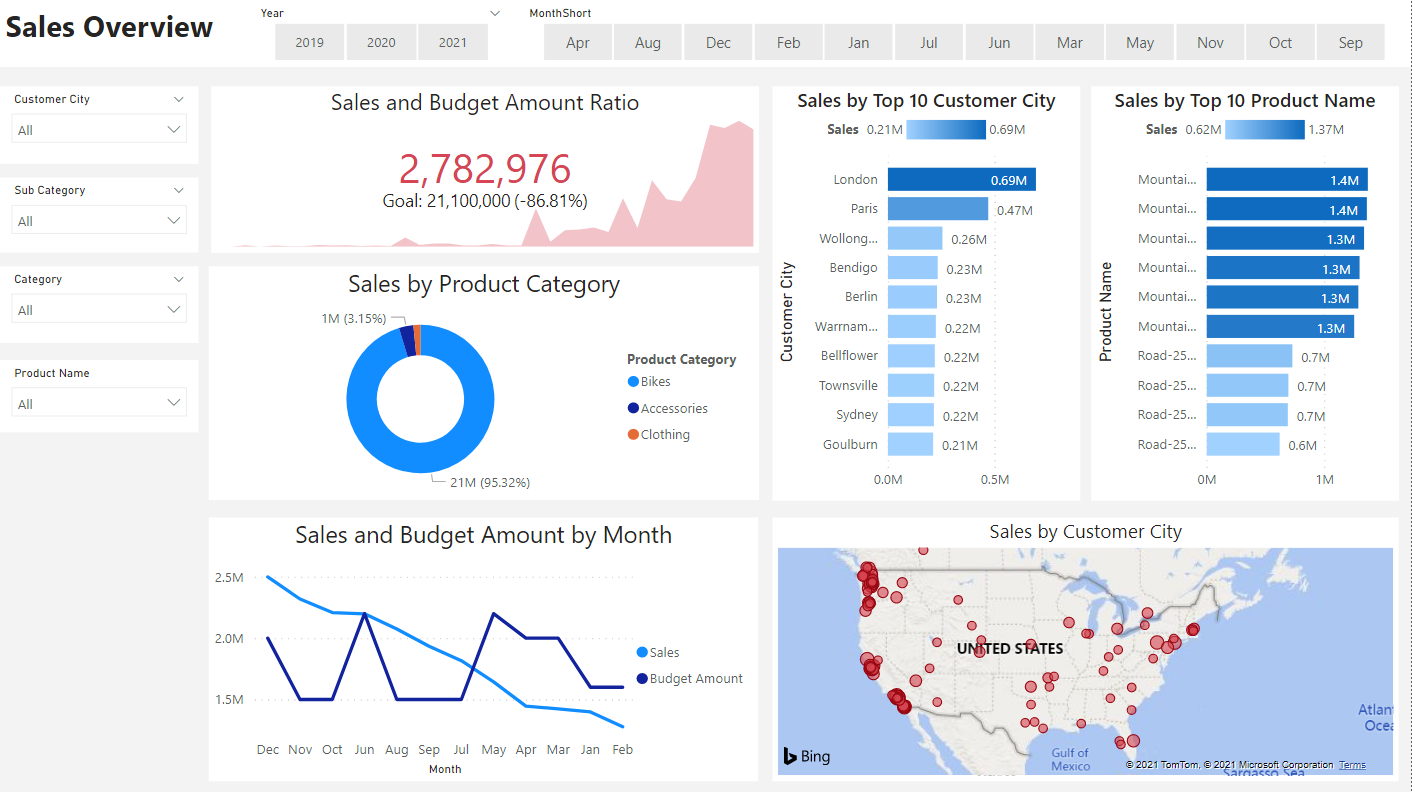

The page's visual inventory and layout, read from the dashboard file:
{"tool":"powerbi","page":{"name":"Sales Overview","canvas":[1280,720],"ordinal":0},"visuals":[{"type":"textbox","box":[0,0,1280,61.1],"z":0},{"type":"slicer","fields":{"Values":["DIM_Customer.Customer City"]},"box":[0,77.8,179.6,70.6],"z":1000},{"type":"slicer","fields":{"Values":["DIM_Products.Sub Category"]},"box":[0,160.4,179.6,68.3],"z":2000},{"type":"slicer","fields":{"Values":["DIM_Products.Product Category"]},"box":[0,241.9,179.6,69.4],"z":3000},{"type":"slicer","fields":{"Values":["DIM_Products.Product Name"]},"box":[0,326.9,179.6,65.9],"z":4000},{"type":"slicer","fields":{"Values":["Dim_Date_Excel.Year"]},"box":[223.9,0,243.1,61.1],"z":5000},{"type":"slicer","fields":{"Values":["Dim_Date_Excel.MonthShort"]},"box":[467,0,813,61.1],"z":6000},{"type":"kpi","title":"Sales and Budget Amount Ratio","fields":{"Indicator":["Key Measures.Sales"],"Goal":["Key Measures.Budget_Amount"],"TrendLine":["FactInternetSale.SalesAmount"]},"box":[191.6,77.8,496.9,150.9],"z":7000},{"type":"donutChart","fields":{"Category":["DIM_Products.Product Category"],"Y":["Key Measures.Sales"]},"box":[189.2,241.9,499.3,211.9],"z":8000},{"type":"lineChart","fields":{"Y":["Key Measures.Sales","Key Measures.Budget_Amount"],"Category":["Dim_Date_Excel.MonthShort"]},"box":[189.5,468.9,498.5,239.2],"z":9000},{"type":"barChart","title":"Sales by Top 10 Customer City","fields":{"Y":["Key Measures.Sales"],"Category":["DIM_Customer.Customer City"]},"box":[700.5,77.8,279,376],"z":10000},{"type":"barChart","title":"Sales by Top 10 Product Name","fields":{"Y":["Key Measures.Sales"],"Category":["DIM_Products.Product Name"]},"box":[990.2,77.8,279,376],"z":11000},{"type":"map","fields":{"Category":["DIM_Customer.Customer City"],"Size":["Key Measures.Sales"]},"box":[701,468.9,568.4,239.2],"z":12000}]}

Visuals, with their boxes in screenshot pixels (x1, y1, x2, y2), scaled from the page's 1280x720 canvas onto the 1412x792 screenshot:
textbox: rect(0, 0, 1411, 67)
slicer - DIM_Customer.Customer City: rect(0, 86, 198, 163)
slicer - DIM_Products.Sub Category: rect(0, 176, 198, 252)
slicer - DIM_Products.Product Category: rect(0, 266, 198, 342)
slicer - DIM_Products.Product Name: rect(0, 360, 198, 432)
slicer - Dim_Date_Excel.Year: rect(247, 0, 515, 67)
slicer - Dim_Date_Excel.MonthShort: rect(515, 0, 1411, 67)
"Sales and Budget Amount Ratio" kpi: rect(211, 86, 760, 252)
donutChart - DIM_Products.Product Category x Key Measures.Sales: rect(209, 266, 760, 499)
lineChart - Key Measures.Sales x Key Measures.Budget_Amount: rect(209, 516, 759, 779)
"Sales by Top 10 Customer City" barChart: rect(773, 86, 1081, 499)
"Sales by Top 10 Product Name" barChart: rect(1092, 86, 1400, 499)
map - DIM_Customer.Customer City x Key Measures.Sales: rect(773, 516, 1400, 779)
